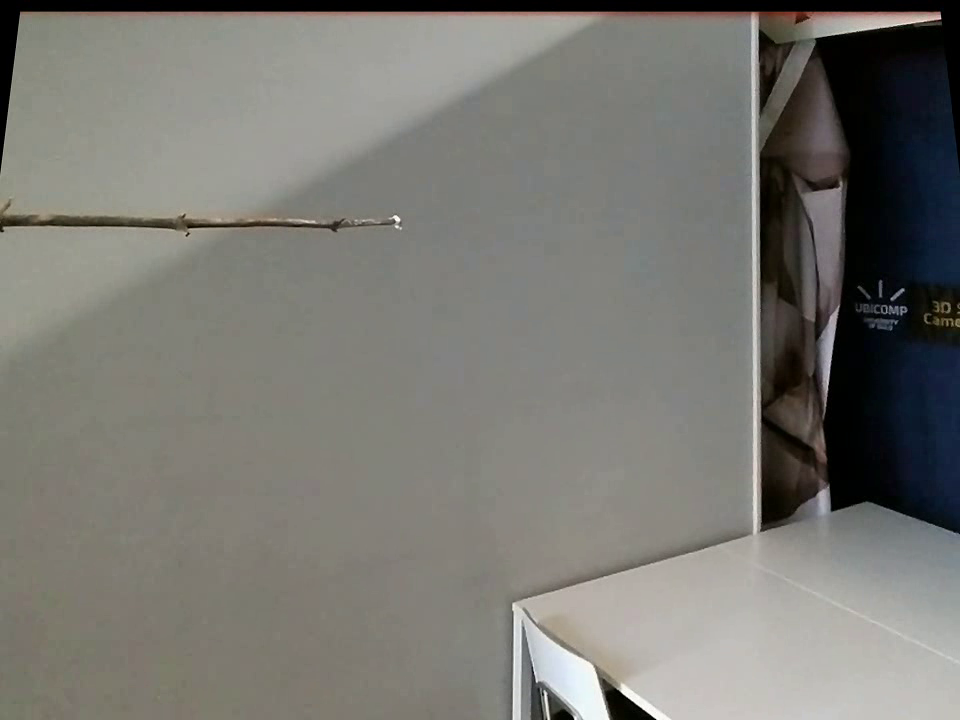branch: (1, 189, 387, 249)
